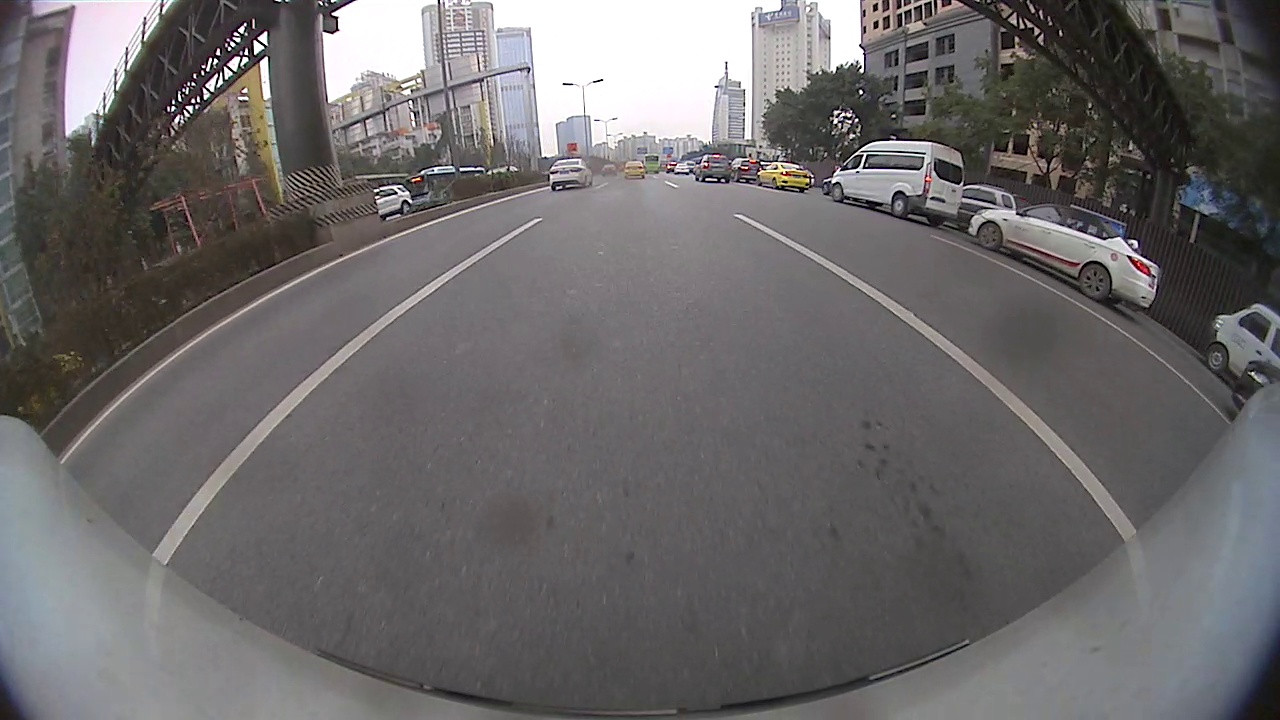bus: (406, 165, 487, 205)
car: (968, 205, 1160, 308), (832, 129, 964, 226), (1206, 303, 1271, 386), (1232, 360, 1279, 411), (961, 184, 1016, 224), (757, 162, 811, 192), (548, 159, 593, 191), (372, 184, 413, 219), (693, 155, 731, 184), (732, 157, 762, 181), (623, 161, 645, 180), (822, 177, 834, 196)
front: (976, 222, 1003, 252), (1206, 343, 1230, 376), (830, 182, 846, 203)
rear: (1077, 261, 1113, 303), (892, 194, 909, 220), (399, 201, 414, 216)
